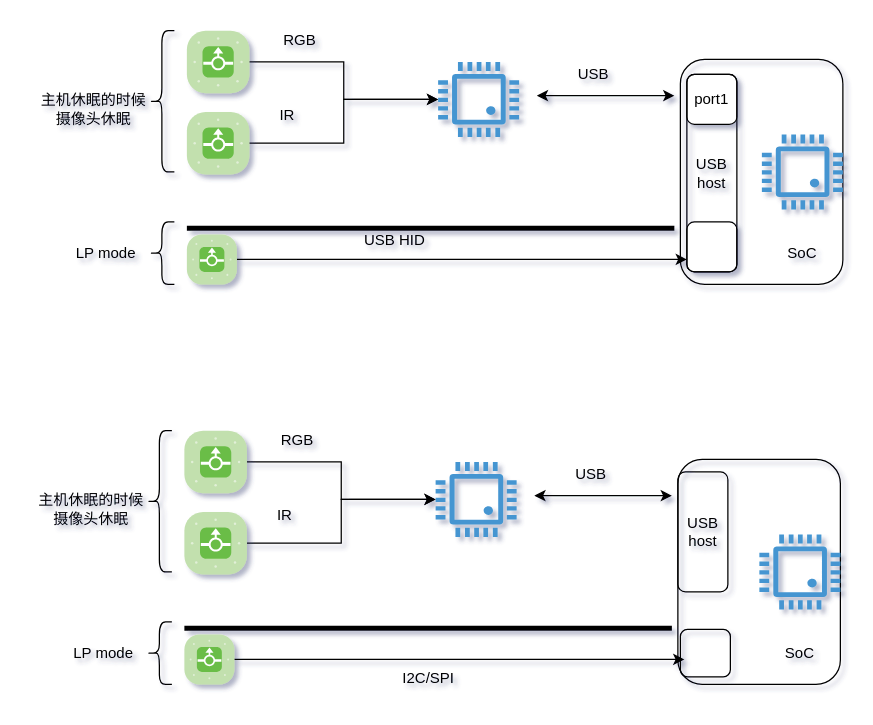
Image size: 873x725. Some labels were removed from this diagram. Each missing label, with the box of its shape:
ISH: (679, 628, 730, 677)
port2: (686, 221, 737, 272)
